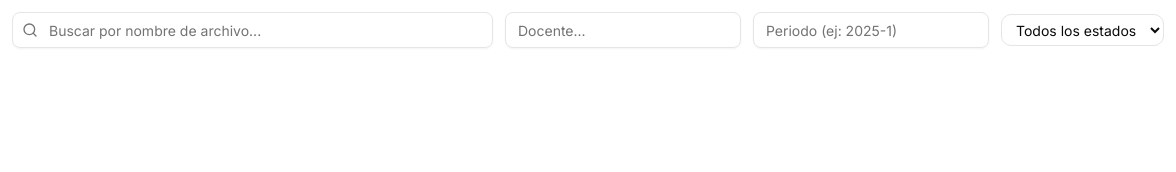
Test: DocumentFilters › shows clear button when filters are active
Note: Type in search to activate filters
Select "Subido" in the dropdown named "Filtrar por estado" at (1082, 30), box [1001,14,1164,46]
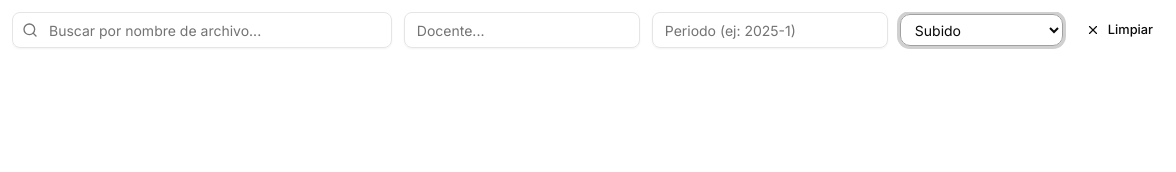
Check: the button with aria-label "Limpiar filtros" is shown, box [1075,16,1164,44]
